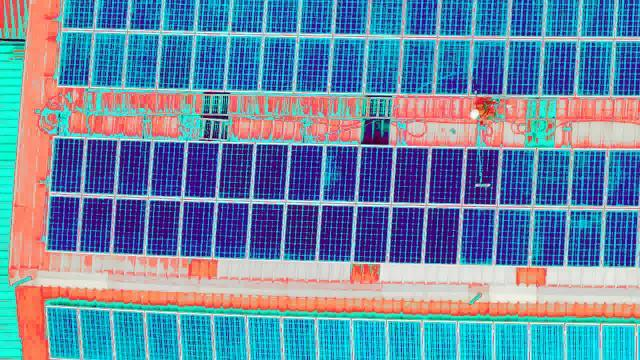clean: (185, 140, 221, 202), (323, 145, 359, 204), (355, 204, 391, 262), (395, 146, 429, 206), (286, 202, 320, 260), (427, 203, 459, 264), (466, 147, 498, 208), (52, 136, 85, 195), (254, 145, 288, 202), (80, 196, 112, 254), (148, 197, 180, 255), (217, 201, 248, 257), (121, 140, 151, 196)
semi: (261, 33, 297, 92), (402, 38, 436, 95), (500, 207, 532, 267), (538, 149, 570, 209), (332, 36, 365, 94), (473, 36, 504, 96), (606, 152, 640, 206), (569, 207, 600, 266), (128, 31, 158, 89), (545, 39, 575, 97), (195, 32, 224, 91), (59, 31, 90, 84)
